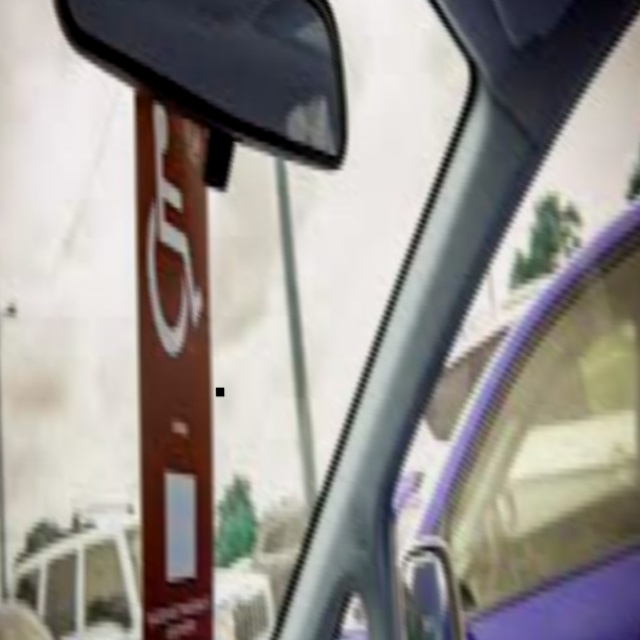ISA: (146, 97, 208, 367)
